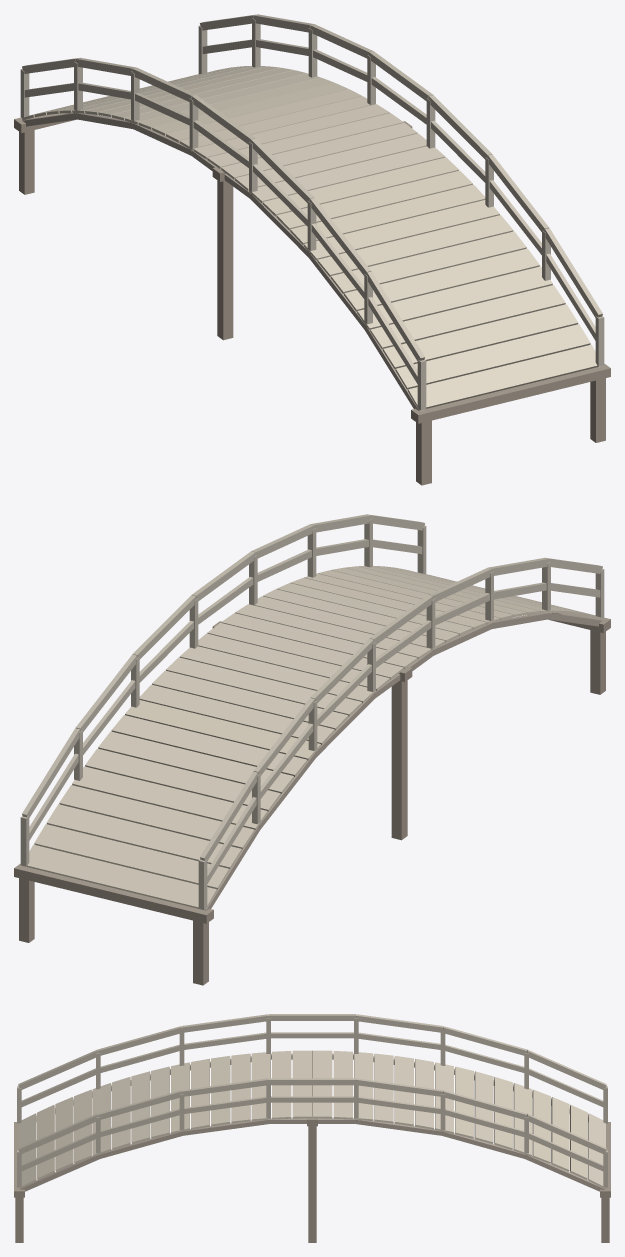
File: SupportedBridge.glb
The picture shows the model from 3 angles, top to bottom: view 1: azimuth 30°, elevation 25°; view 2: azimuth 150°, elevation 25°; view 3: azimuth 270°, elevation 25°; orthographic projection. The views are drawn at different scales.
Parts seen in each view (by area): view 1: supported_arched_bridge; view 2: supported_arched_bridge; view 3: supported_arched_bridge.
Boxes of the visible parts, x1,y1,x2,y2 form: supported_arched_bridge: [14, 14, 610, 485]; supported_arched_bridge: [14, 514, 610, 985]; supported_arched_bridge: [14, 1014, 610, 1242].
Size of the model in its own units: 4.2 by 4.59 by 15.28.
